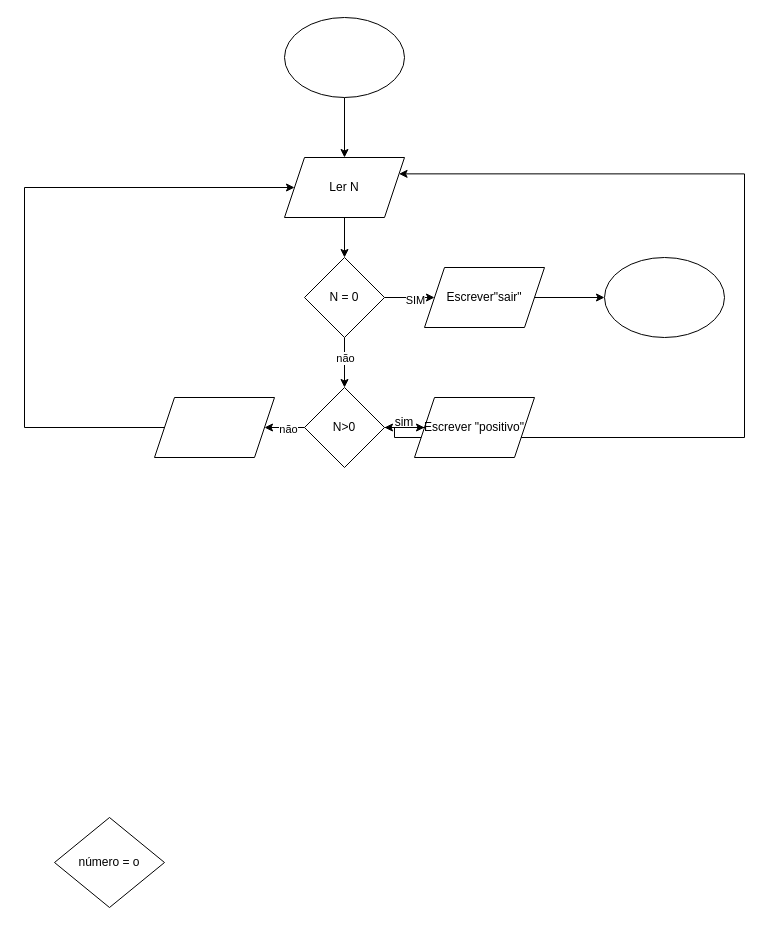
This 770x925 diagram has some shape labels left out. Here are the shapes that lost their labels. From the top down, the centre of each, then its label:
(x=344, y=57): Início
(x=664, y=297): Fim
(x=214, y=427): Escrever "negativo"
